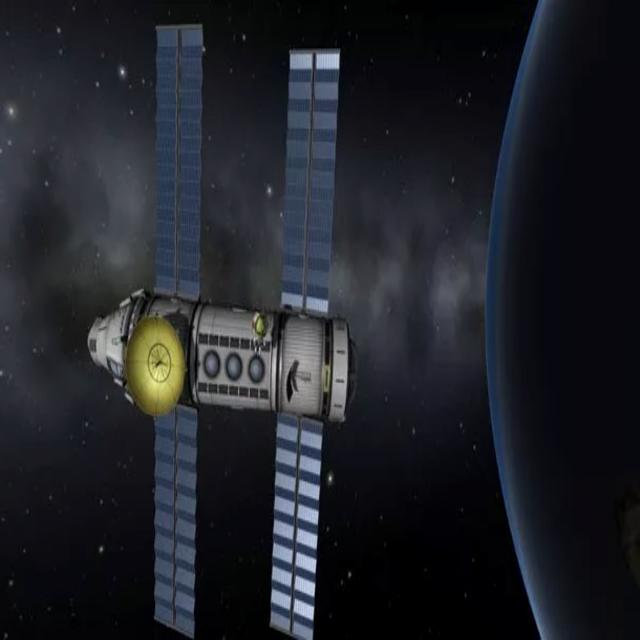medium_debris: (76, 0, 384, 640)
